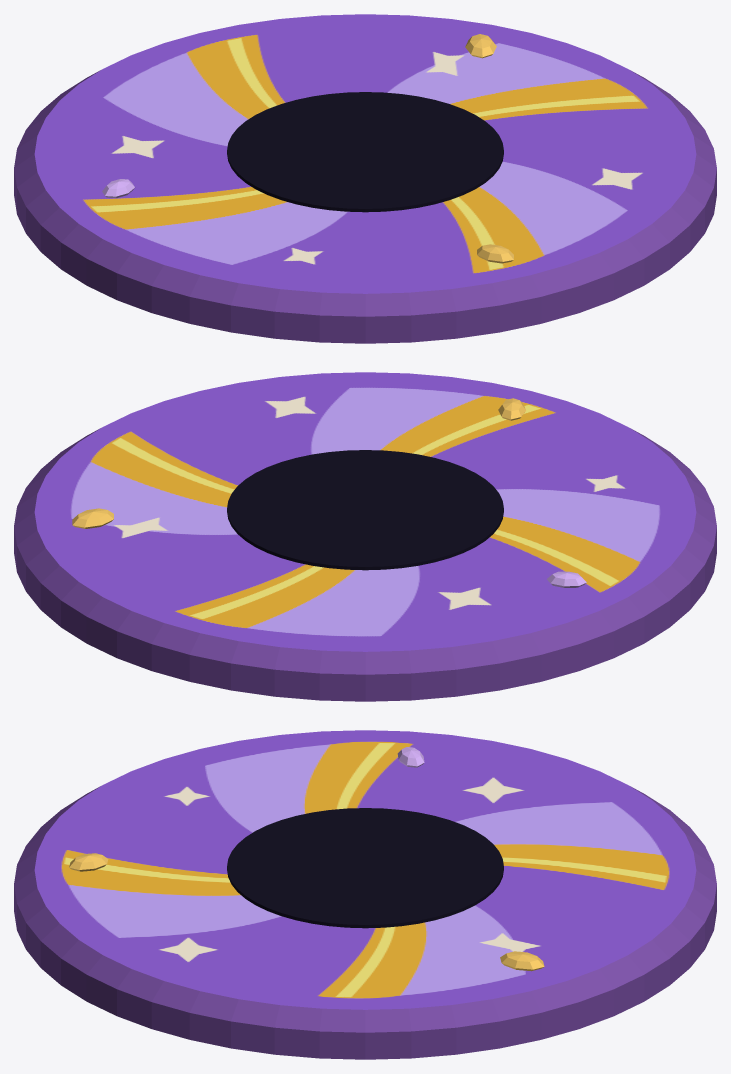
Rendered from asset.glb.
The picture shows the model from 3 angles, top to bottom: view 1: azimuth 30°, elevation 25°; view 2: azimuth 150°, elevation 25°; view 3: azimuth 270°, elevation 25°; orthographic projection.
Parts seen in each view (by area): view 1: Chunky beveled accretion disk, Flat inky black central void, Faceted gold glint 0, Faceted gold glint 2; view 2: Chunky beveled accretion disk, Flat inky black central void, Faceted gold glint 0; view 3: Chunky beveled accretion disk, Flat inky black central void, Faceted gold glint 0, Faceted gold glint 2.
Part boxes in pixels (x1,y1,x2,y2): Chunky beveled accretion disk: (14, 14, 716, 343); Flat inky black central void: (227, 92, 503, 212); Faceted gold glint 0: (465, 34, 496, 58); Faceted gold glint 2: (477, 244, 513, 263); Chunky beveled accretion disk: (14, 372, 716, 701); Flat inky black central void: (227, 450, 503, 570); Faceted gold glint 0: (72, 508, 113, 528); Chunky beveled accretion disk: (14, 730, 716, 1059); Flat inky black central void: (227, 808, 503, 928); Faceted gold glint 0: (500, 951, 544, 971); Faceted gold glint 2: (69, 853, 108, 871).
Size of the model in its own units: 0.99 by 0.098 by 0.99.
5 materials, 1 textured.
